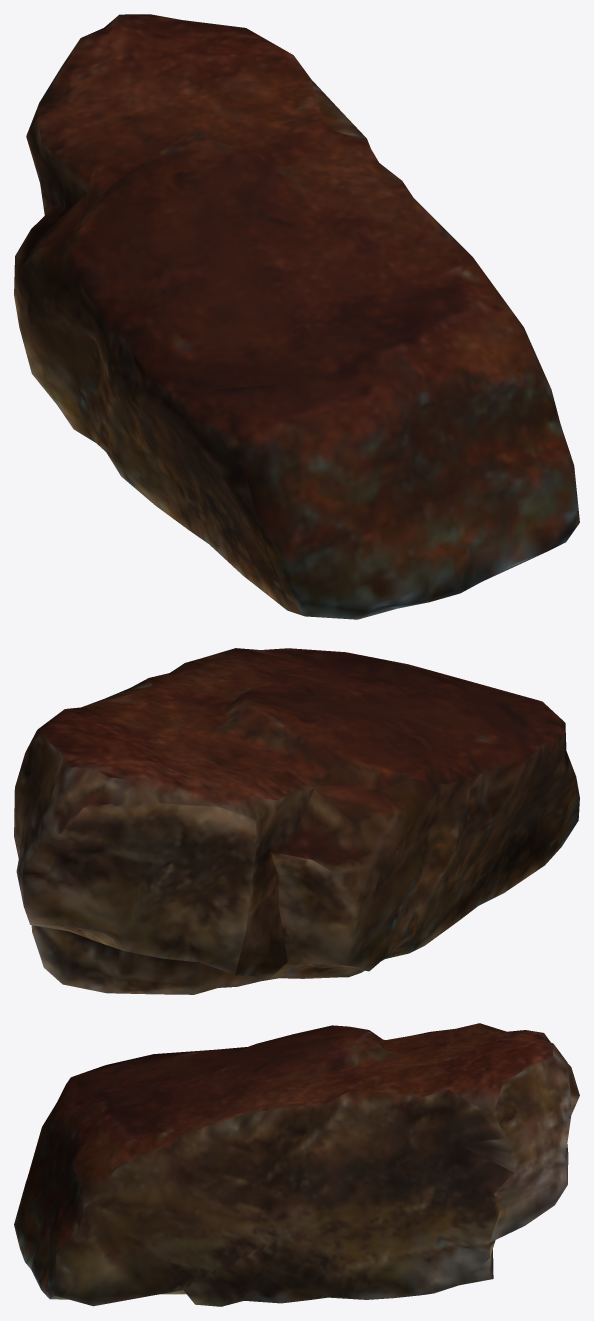
The model's file is rock-CPX-WbiQ.glb.
3 renders of one model, top to bottom at view 1: azimuth 30°, elevation 25°; view 2: azimuth 150°, elevation 25°; view 3: azimuth 270°, elevation 25°, orthographic. The views are drawn at different scales.
Visible parts, largest first — view 1: Rock07_Wildacre; view 2: Rock07_Wildacre; view 3: Rock07_Wildacre.
Part boxes in pixels (box(x1,y1,x2,y2)): Rock07_Wildacre: box(14, 14, 579, 619); Rock07_Wildacre: box(14, 648, 579, 994); Rock07_Wildacre: box(14, 1023, 579, 1306).
Bounding box in the file's own units: 0.5155 × 0.4437 × 1.
1 material, 1 textured.
